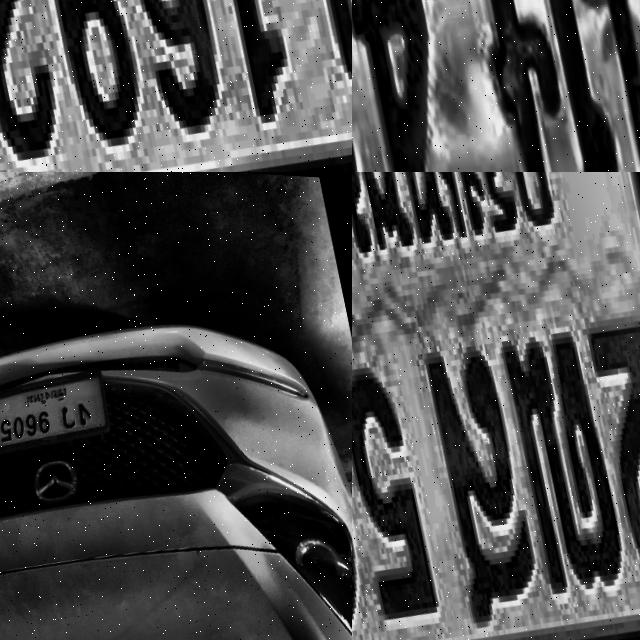license-plate: (352, 172, 640, 640), (0, 0, 352, 172), (352, 0, 640, 172), (0, 358, 114, 453)
